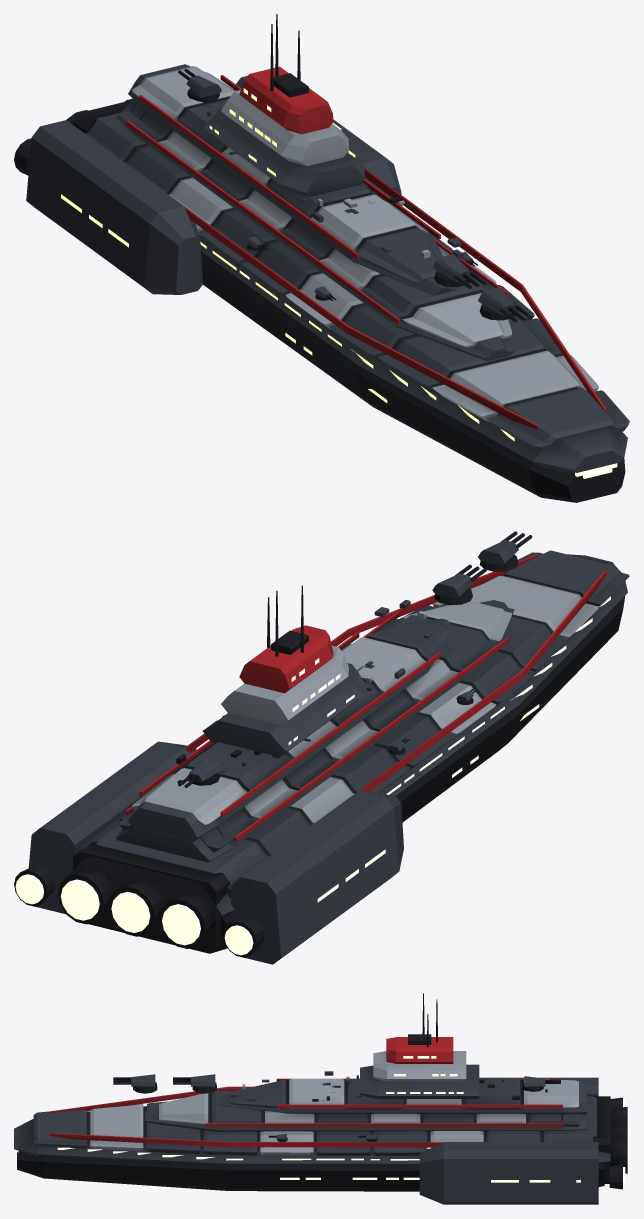
The model's file is destroyer.glb.
3 renders of one model, top to bottom at view 1: azimuth 30°, elevation 25°; view 2: azimuth 150°, elevation 25°; view 3: azimuth 270°, elevation 25°, orthographic. The views are drawn at different scales.
Parts seen in each view (by area): view 1: hull_destroyer; view 2: hull_destroyer; view 3: hull_destroyer.
Part boxes in pixels (left/top/right/bottom): hull_destroyer: left=14, top=14, right=629, bottom=502; hull_destroyer: left=14, top=531, right=629, bottom=964; hull_destroyer: left=14, top=993, right=629, bottom=1204.
Size of the model in its own units: 45.64 by 44.69 by 145.
